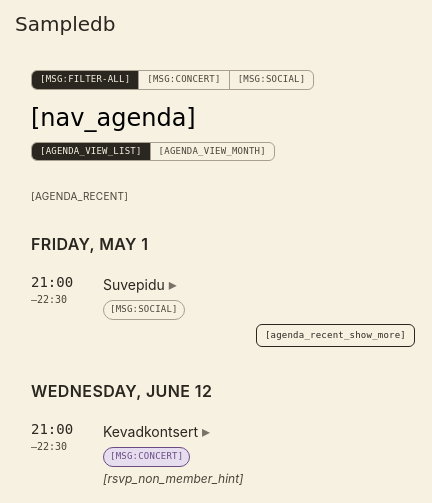
#214 — single-select TOGGLE (polyphony.uk pattern) › the Recent section is filtered too (a recent-only type hides under a different filter)
Click the button "[msg:concert]" at [184, 80], box [139, 71, 230, 88]
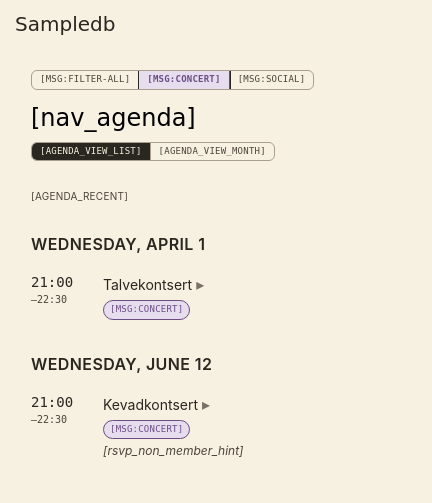
Expected: the element with test id "agenda-recent-row-rec-soc" is gone
Expected: the element with test id "agenda-recent-row-rec-con" is shown, [31, 274, 204, 320]
